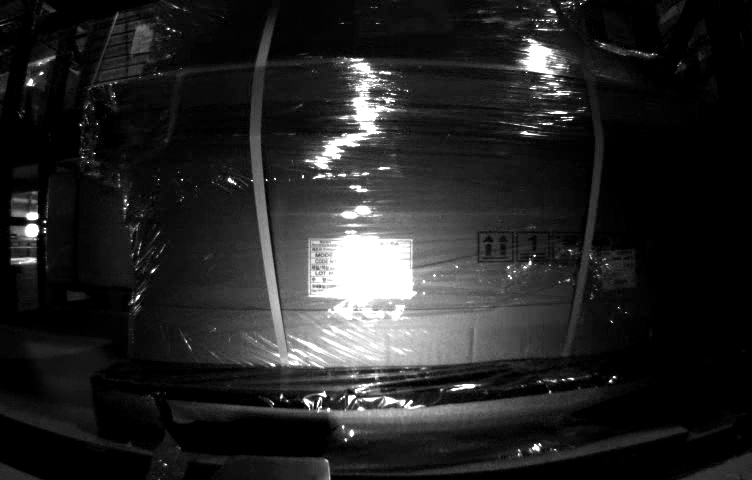True Barcode: (600, 246, 637, 287)
